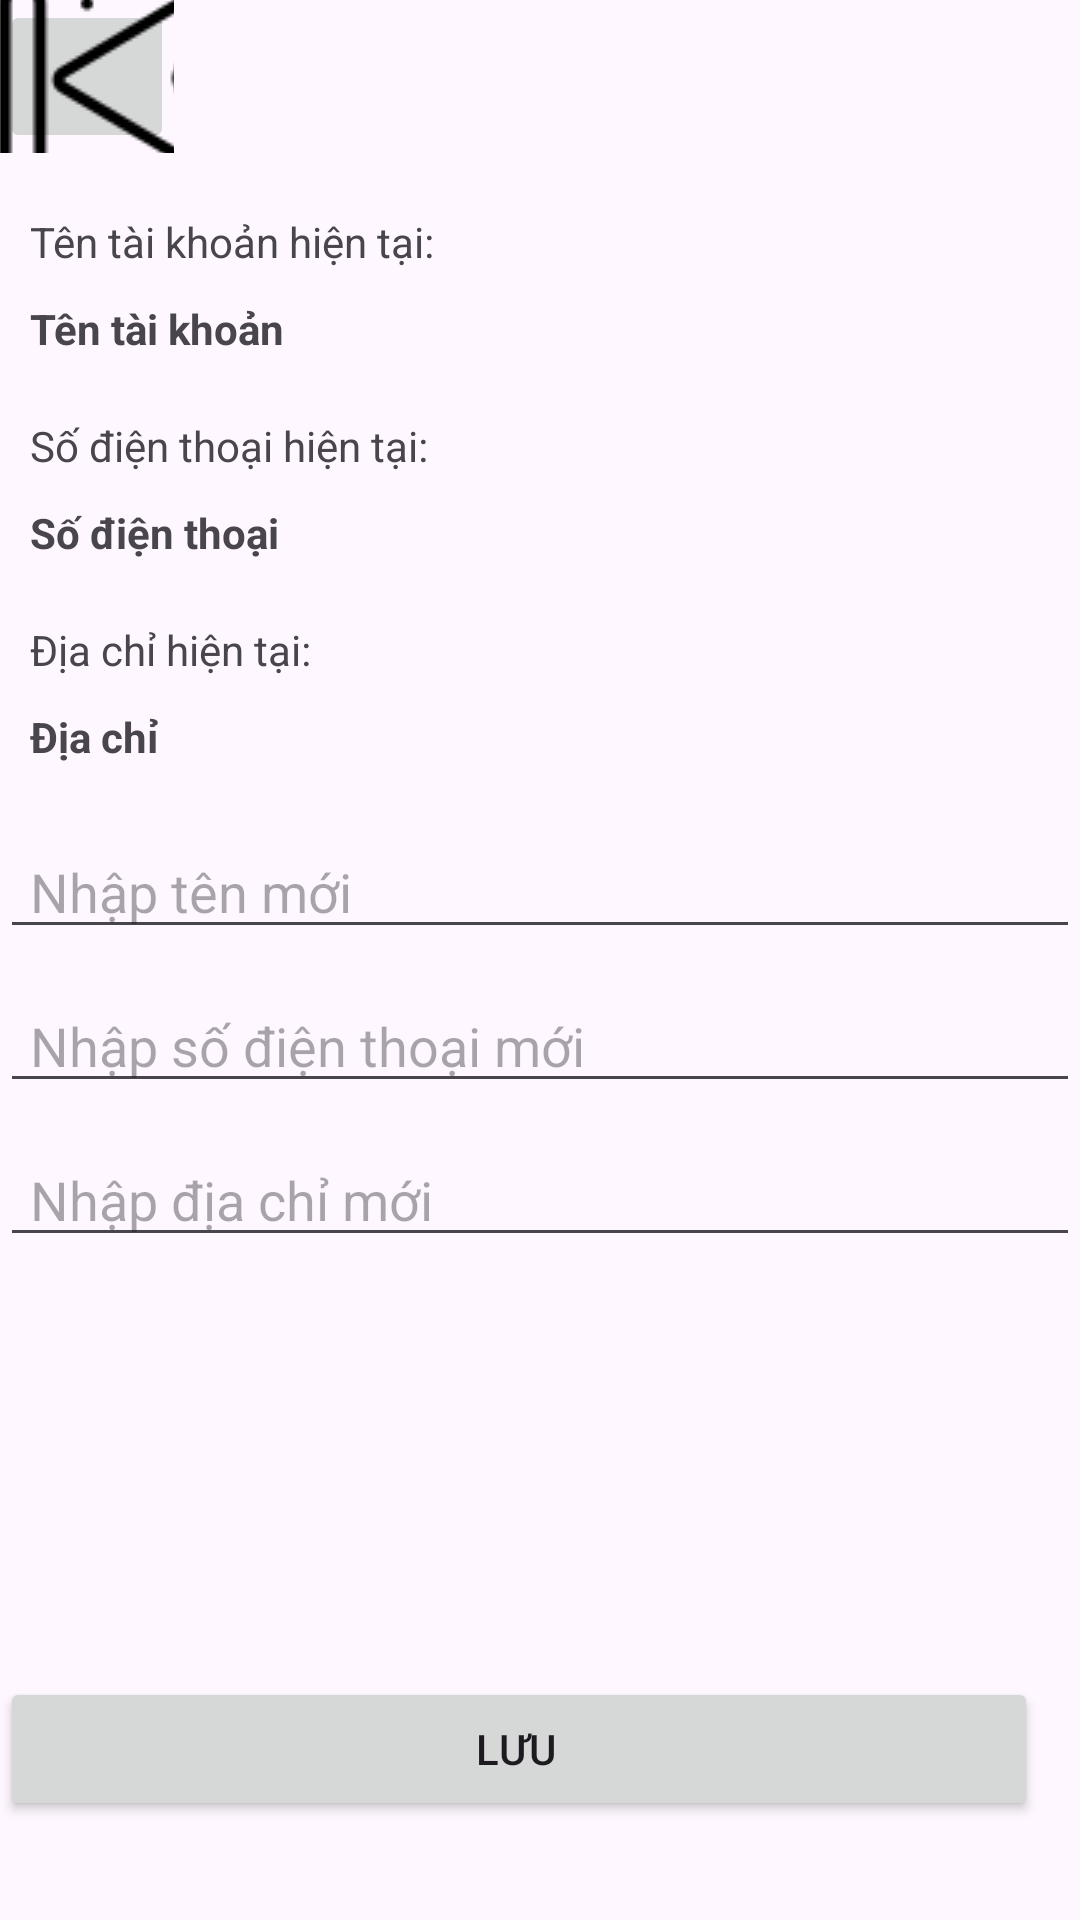

Icon bounding boxes for this 1080px x 1920px phone screenshot, format (x1,y1,x2,y2):
back: (0,0,174,153)
